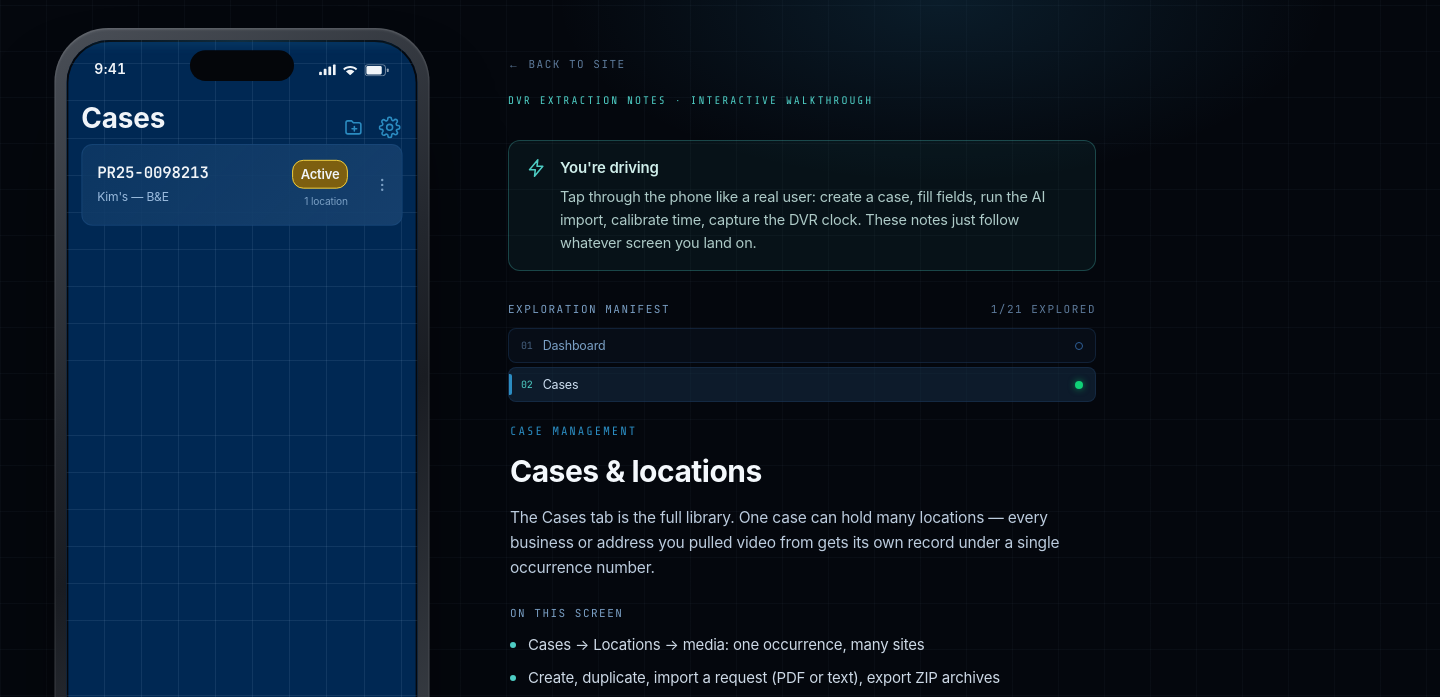
Test: DemoExperience — location action chooser › 'Duplicate Location' leaves the scopes behind and says so
The image size is (1440, 697).
Click the text "PR25-0098213".
click(153, 172)  # box top-left (97, 162), bottom-right (209, 182)
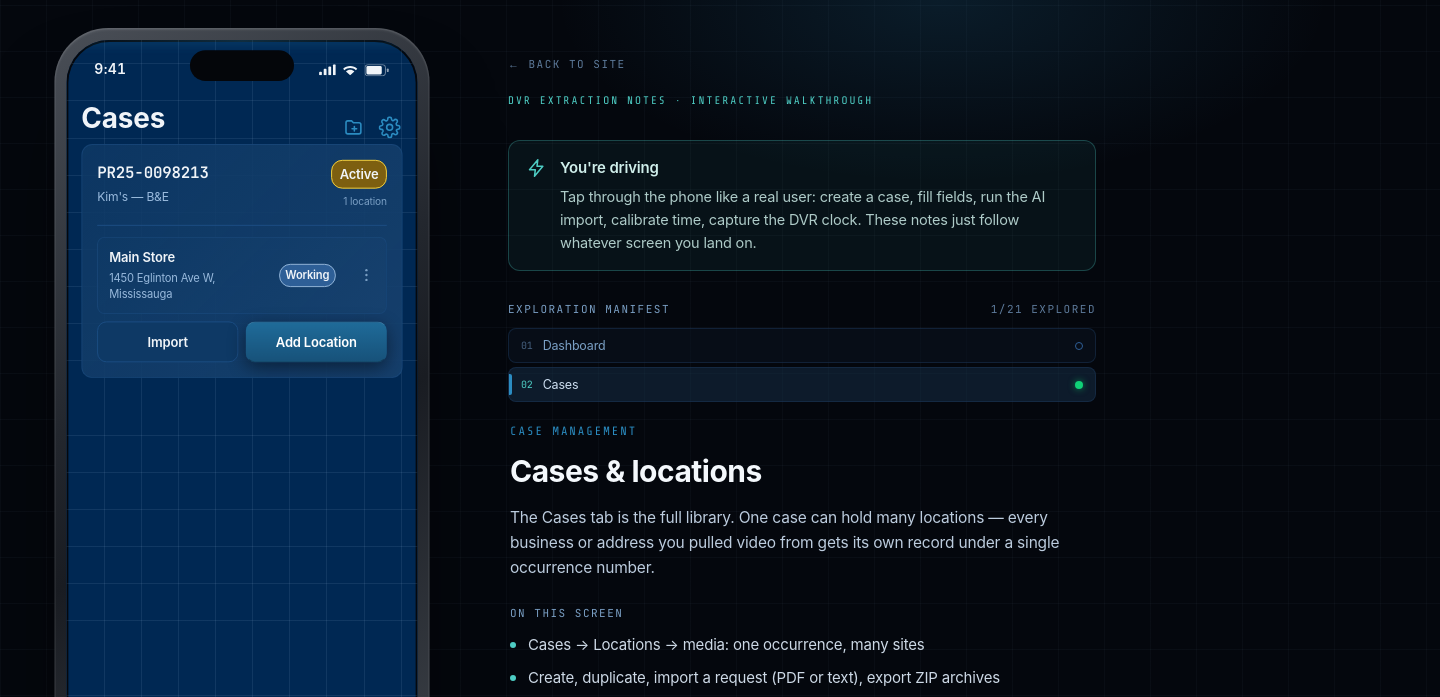
Click the button named "Actions for location Main Store".
click(366, 275)  # box top-left (347, 238), bottom-right (386, 313)
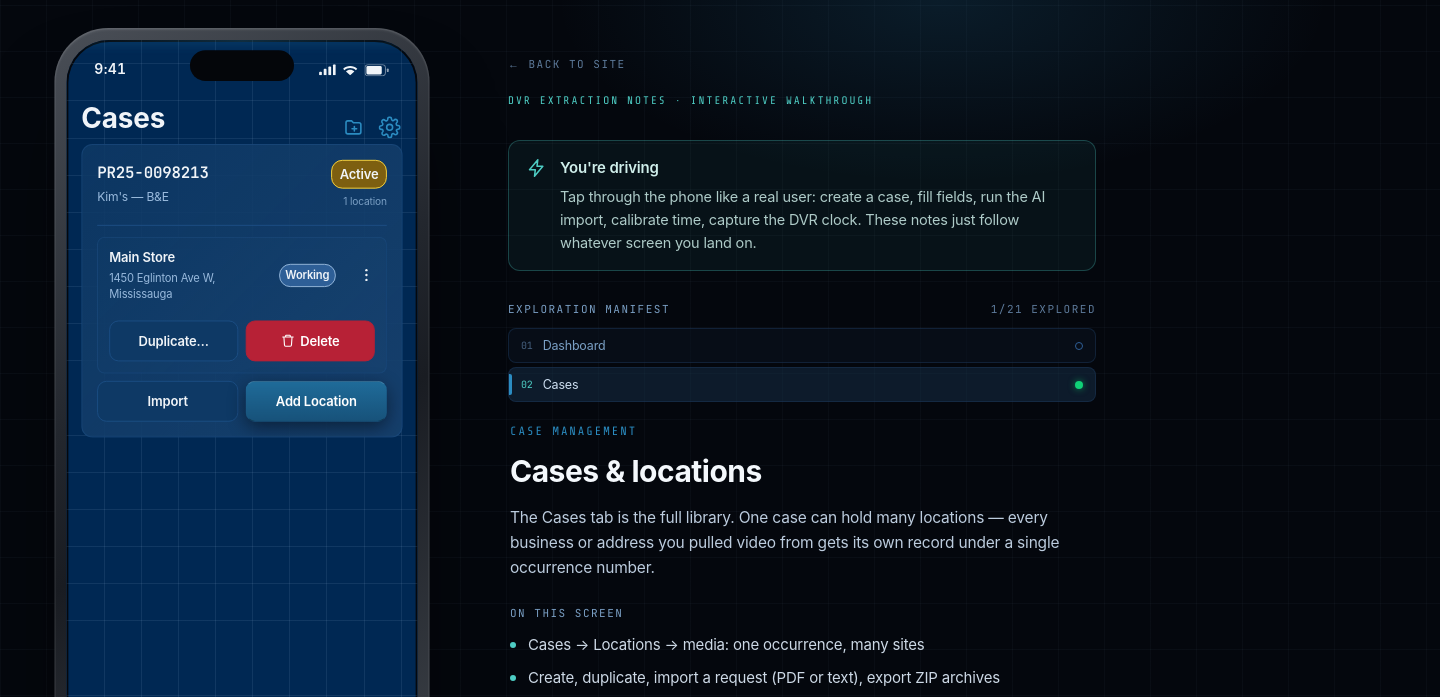
Click the button "Duplicate…".
click(174, 341)  # box top-left (109, 320), bottom-right (238, 361)
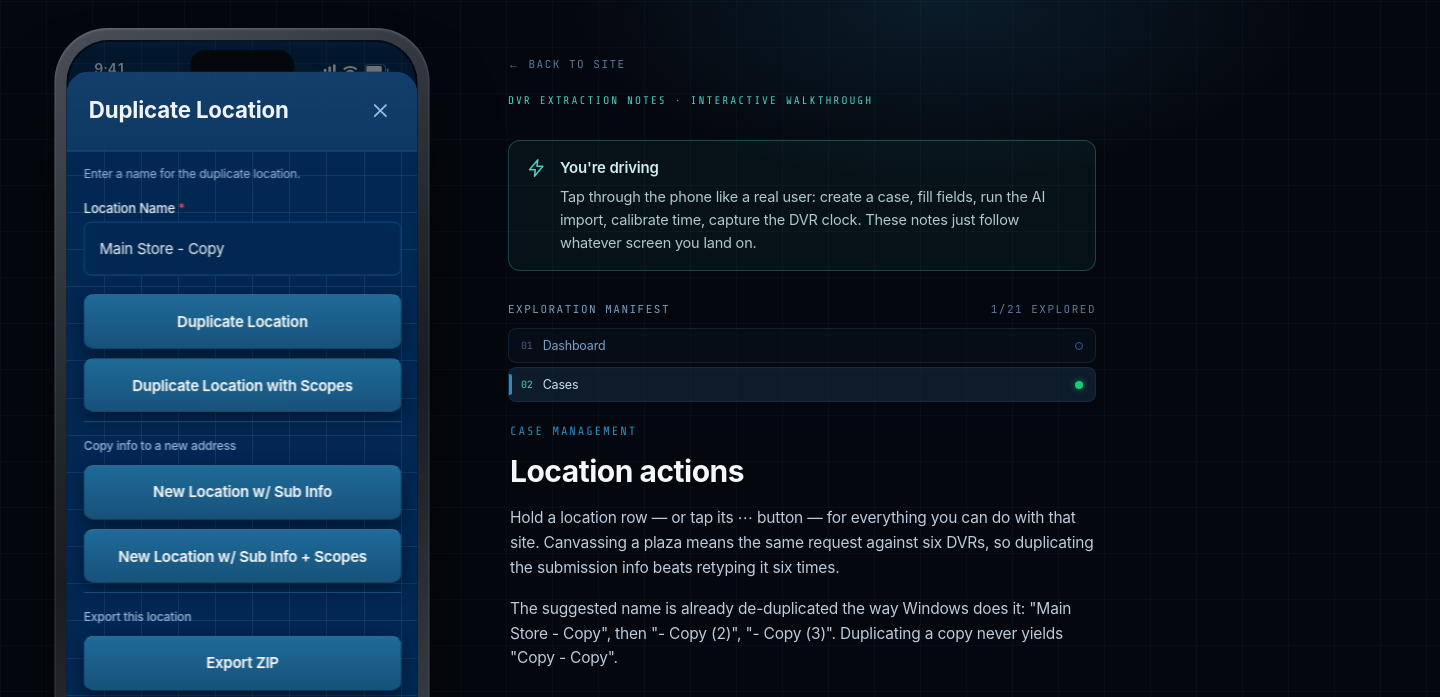
Click the button "Duplicate Location".
click(242, 321)  # box top-left (83, 294), bottom-right (401, 348)
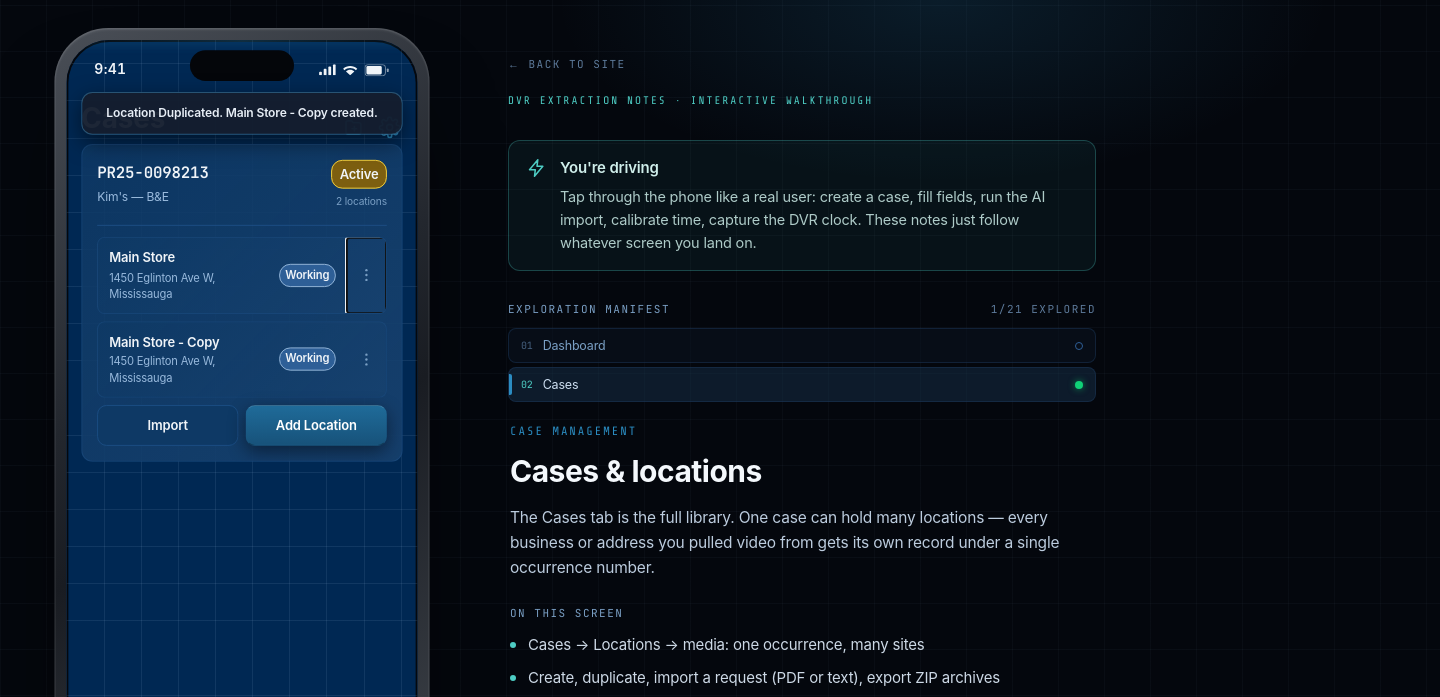
Expected: the message with test id "demo-notification" reads "Location Duplicated. Main Store - Copy created.", top-left (106, 105), bottom-right (378, 120)
